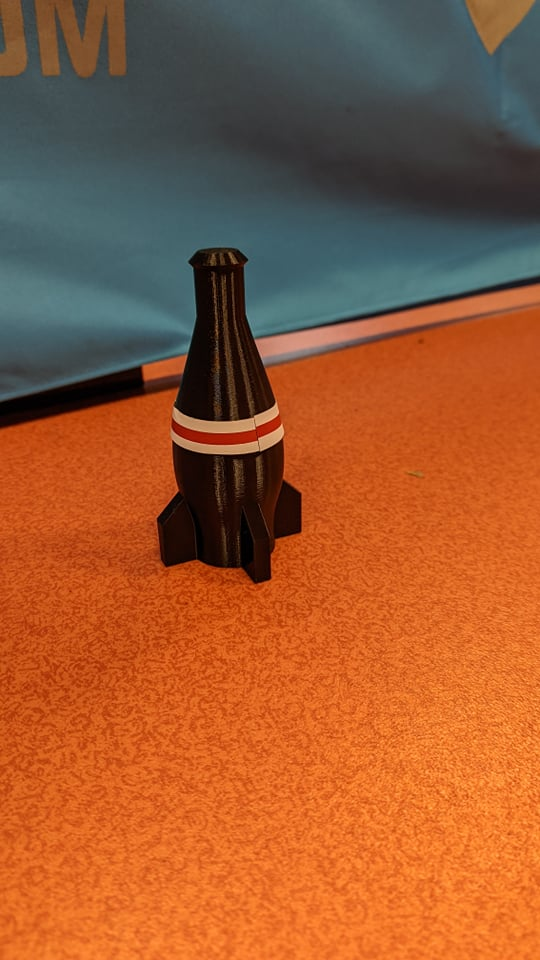bottle: (144, 229, 312, 599)
